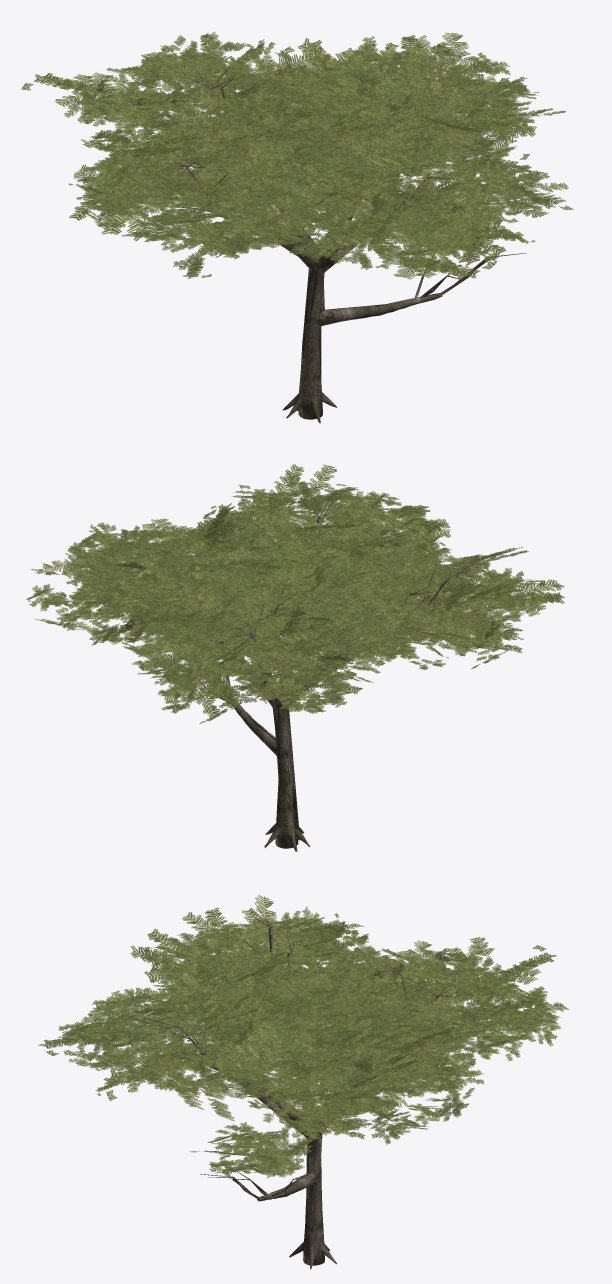
File: acacia-11.glb
3 views of the same model, one above another, from view 1: azimuth 30°, elevation 25°; view 2: azimuth 150°, elevation 25°; view 3: azimuth 270°, elevation 25° (orthographic). The views are drawn at different scales.
Visible parts, largest first — view 1: leaves, leaves_far, bark, bark_far; view 2: leaves, leaves_far, bark, bark_far; view 3: leaves, leaves_far, bark, bark_far.
Boxes of the visible parts, x1,y1,x2,y2 form: leaves: [64, 35, 565, 272]; leaves_far: [21, 31, 573, 279]; bark: [168, 69, 525, 423]; bark_far: [182, 70, 486, 411]; leaves: [26, 481, 543, 723]; leaves_far: [42, 464, 564, 720]; bark: [139, 494, 475, 851]; bark_far: [118, 501, 446, 840]; leaves: [67, 906, 560, 1178]; leaves_far: [38, 895, 568, 1174]; bark: [143, 903, 462, 1269]; bark_far: [143, 928, 445, 1235].
Bounding box in the file's own units: 11.5 × 6.81 × 12.62.
Materials: 2 (2 with a texture image).
